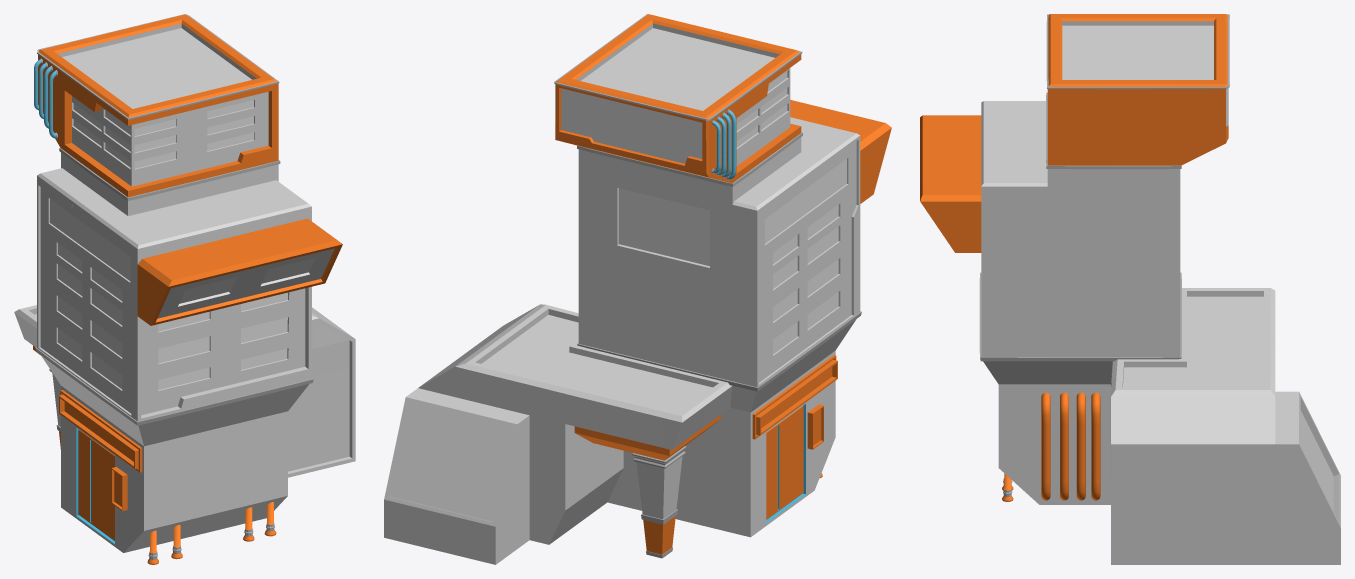
Rendered from STORAGE_OUTPOSTv2.fbx.
The picture shows the model from 3 angles, left to right: view 1: azimuth 30°, elevation 25°; view 2: azimuth 150°, elevation 25°; view 3: azimuth 270°, elevation 25°; orthographic projection. The views are drawn at different scales.
Visible parts, largest first — view 1: Base_low, Windows, door etc_low, details up_low, Cylinder.014_low, pipes up_low; view 2: Base_low, Windows, door etc_low, details up_low, pipes up_low, details down_low; view 3: Base_low, Cylinder.014_low, details up_low.
Boxes of the visible parts, x1=… form: Base_low: x1=14, y1=14, x2=355, y2=552; Windows: x1=40, y1=91, x2=334, y2=415; door etc_low: x1=59, y1=390, x2=142, y2=540; details up_low: x1=35, y1=14, x2=313, y2=425; Cylinder.014_low: x1=147, y1=502, x2=276, y2=564; pipes up_low: x1=34, y1=58, x2=57, y2=139; Base_low: x1=384, y1=14, x2=891, y2=564; Windows: x1=561, y1=68, x2=856, y2=382; door etc_low: x1=752, y1=355, x2=837, y2=519; details up_low: x1=554, y1=14, x2=861, y2=391; pipes up_low: x1=711, y1=109, x2=736, y2=180; details down_low: x1=632, y1=446, x2=686, y2=558; Base_low: x1=920, y1=14, x2=1340, y2=564; Cylinder.014_low: x1=1002, y1=392, x2=1100, y2=501; details up_low: x1=979, y1=14, x2=1229, y2=361.
Size of the model in its own units: 795 by 1154 by 1028.
